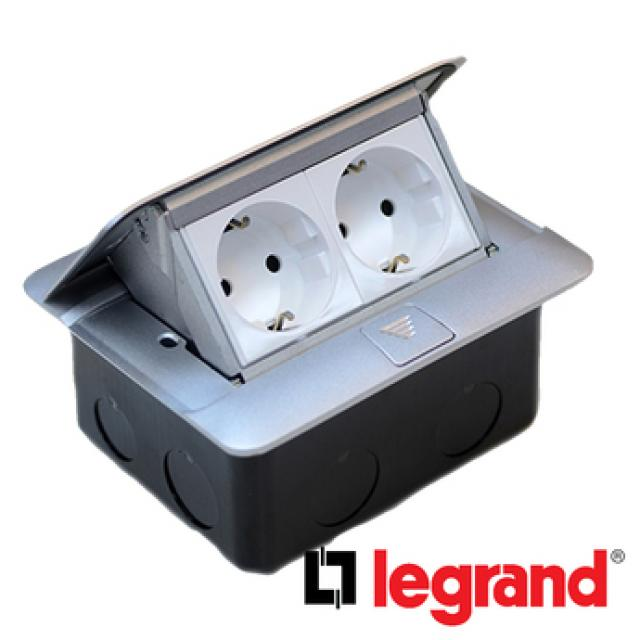typeb: (96, 88, 578, 400)
